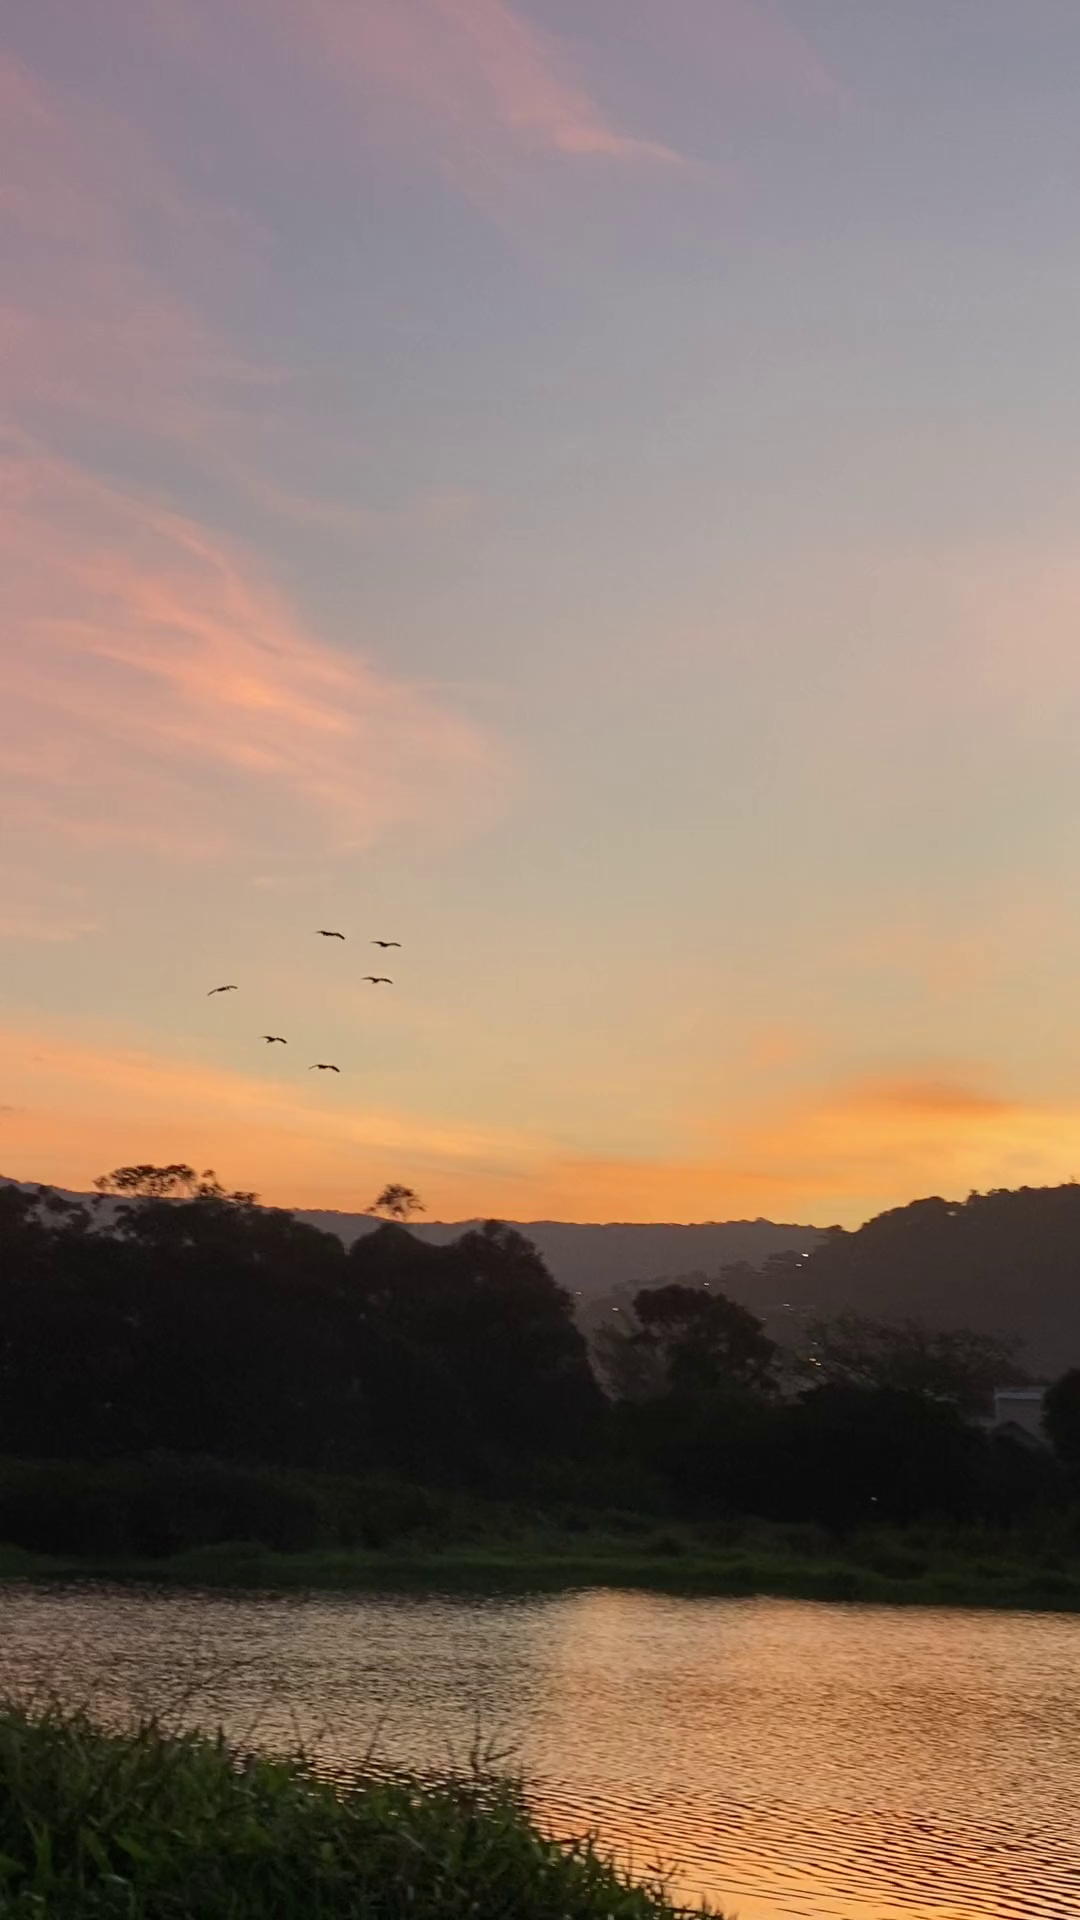bird: (207, 984, 237, 996), (315, 930, 345, 942), (361, 976, 394, 986), (309, 1063, 340, 1072), (258, 1035, 286, 1044), (371, 940, 401, 948)
